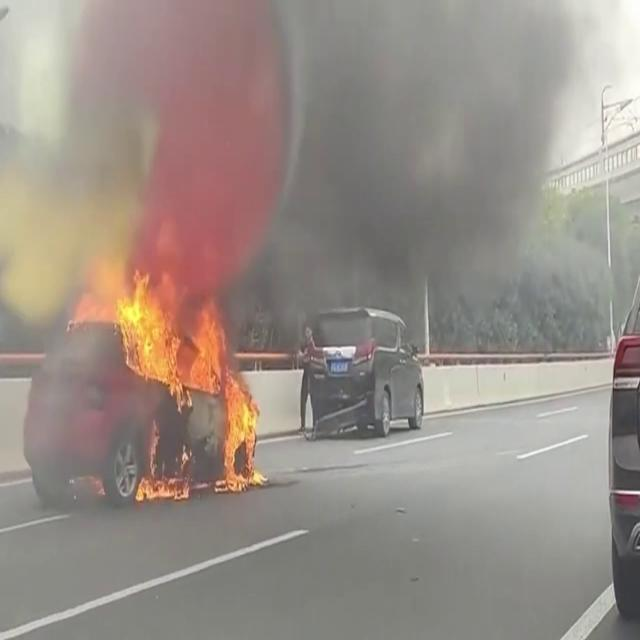normal: (292, 275, 472, 450)
single accident: (0, 258, 288, 517)
